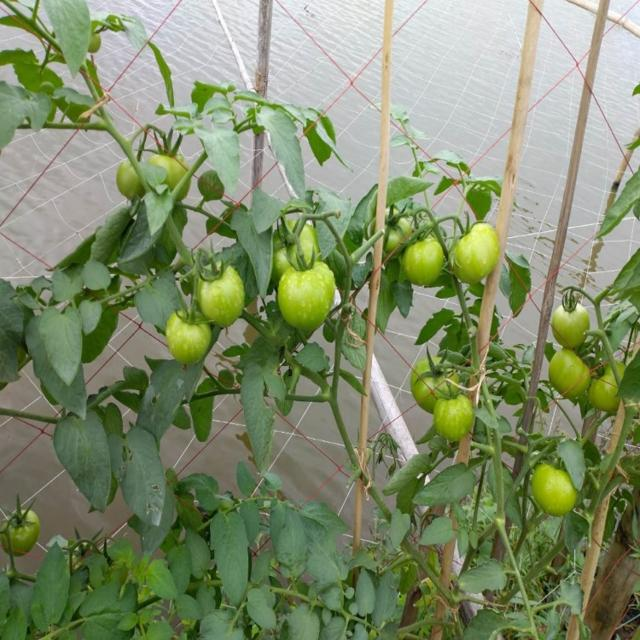tomato: (283, 262, 336, 332), (199, 262, 245, 329), (451, 225, 503, 282), (401, 233, 450, 288), (425, 392, 475, 444), (413, 353, 460, 407), (529, 461, 575, 515), (168, 312, 213, 367), (550, 352, 592, 402), (550, 305, 592, 348), (7, 504, 41, 556), (589, 365, 623, 409), (274, 228, 316, 262), (388, 205, 416, 252), (159, 152, 189, 186), (115, 164, 143, 199)
